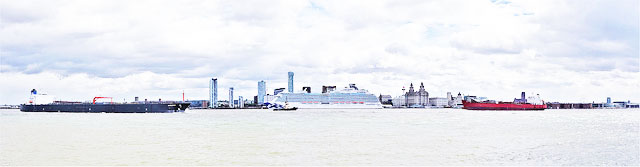cruise_ship: (269, 86, 383, 110)
tanker: (18, 86, 192, 114), (462, 92, 546, 112)
tug_boat: (273, 99, 299, 111)
